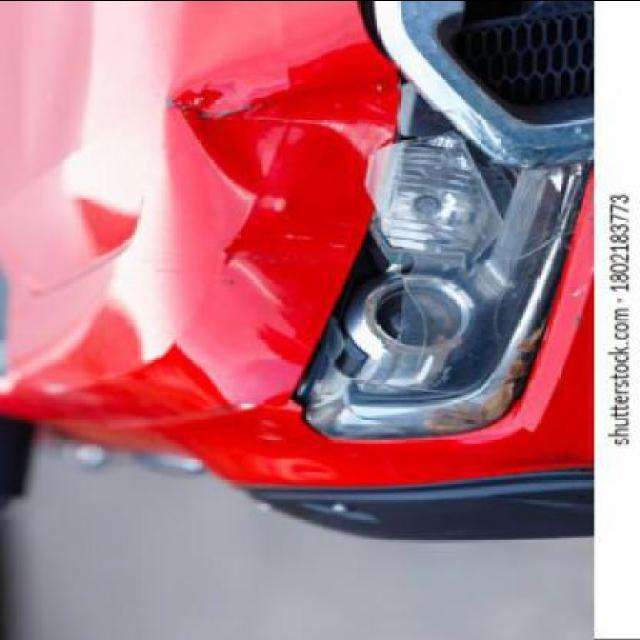Headlight-Damage: (290, 220, 444, 392)
front-bumper-dent: (164, 62, 397, 226)
